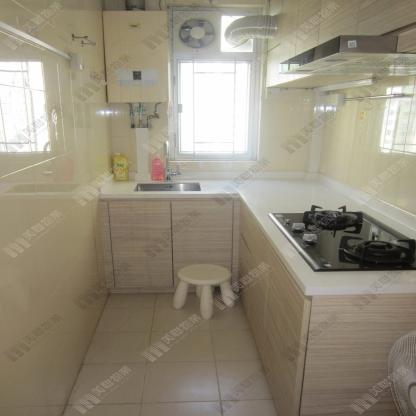Exhaust Fan: (171, 9, 224, 53)
Exhaust Hood: (279, 35, 416, 75)
Faucet: (158, 138, 181, 180)
Sink: (123, 179, 214, 193)
Stove: (247, 199, 416, 285)
